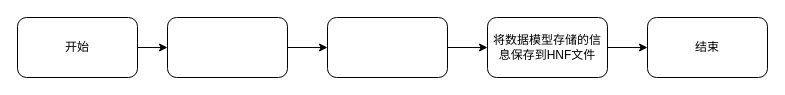
The diagram is 785 pixels wide and 95 high, and some of its shapes have lost their labels. Here are the shapes that lost their labels. From the top down, the centre of each, then its label:
At point 227,47: "选中“另存为HNF文件”".
At point 387,47: "对导出的HNF文件命名".
